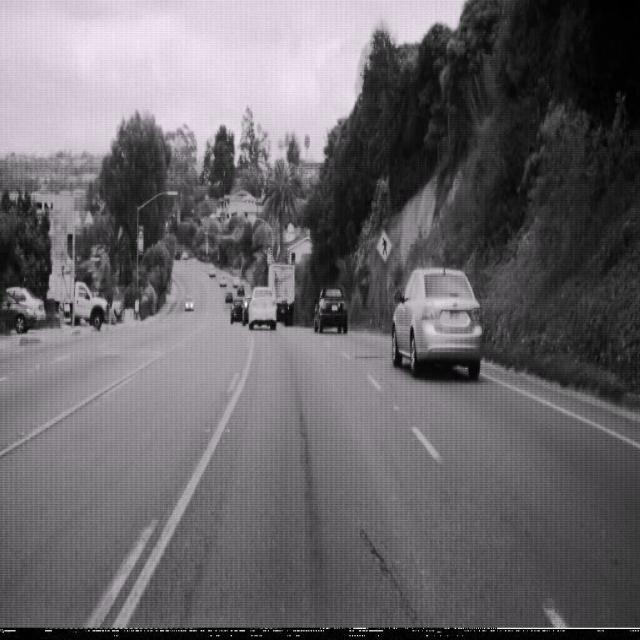pedestrianCrossing: (375, 226, 393, 264)
